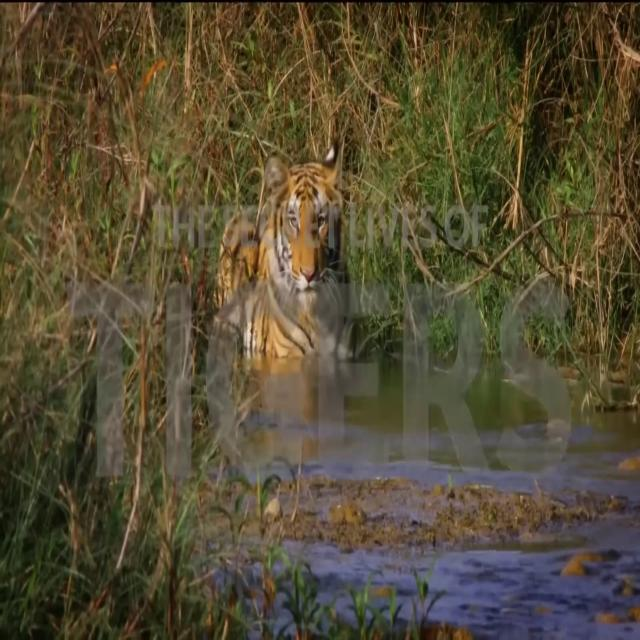tiger: (217, 139, 354, 359)
